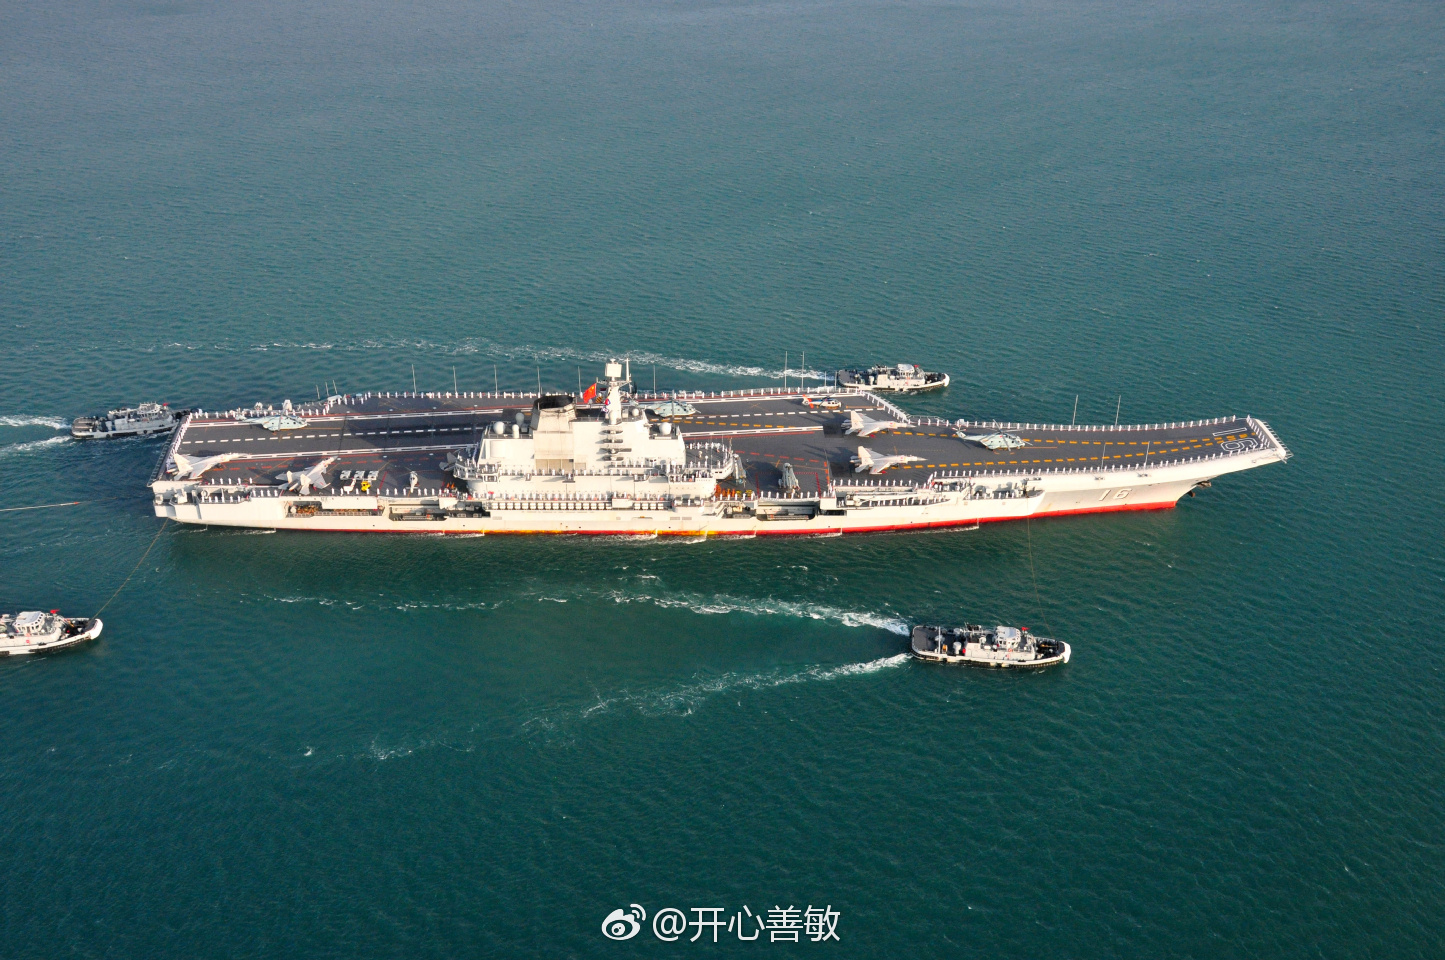otherboat: (899, 611, 1073, 675), (1, 606, 107, 663), (65, 396, 187, 446), (843, 359, 957, 396)
warship: (138, 377, 1294, 541)
